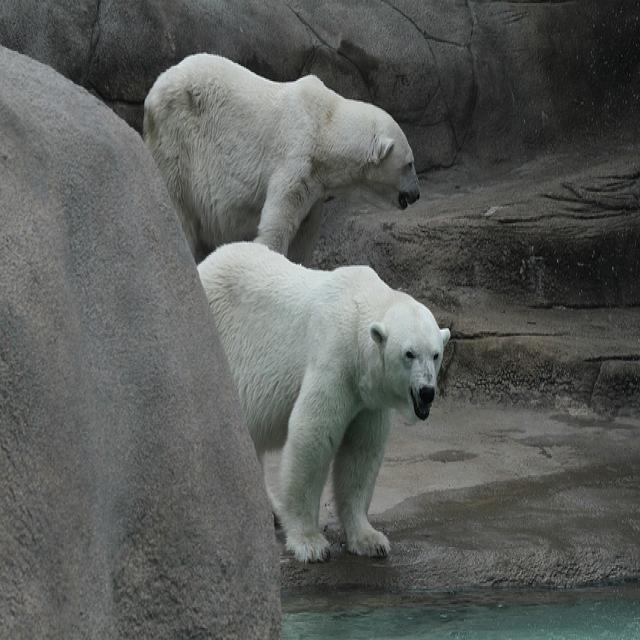Bear: (189, 241, 450, 562), (131, 48, 424, 256)
